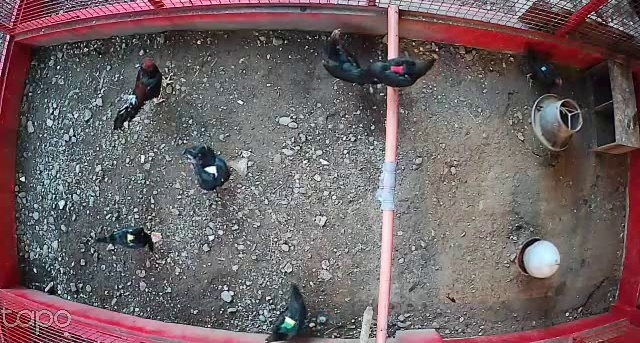Chicken: (320, 23, 383, 95), (262, 284, 323, 343), (362, 48, 440, 90), (183, 140, 233, 192), (94, 219, 158, 259), (523, 49, 567, 93)
Rooster: (111, 52, 180, 133)
Saddle_Color_Blue: (541, 67, 547, 71)
Saddle_Color_Red: (390, 65, 404, 74)
Saddle_Color_White: (205, 165, 219, 177)
Saddle_Color_Yellow: (128, 230, 136, 246)
Saddle_Color_YellowGreen: (281, 317, 297, 330)
